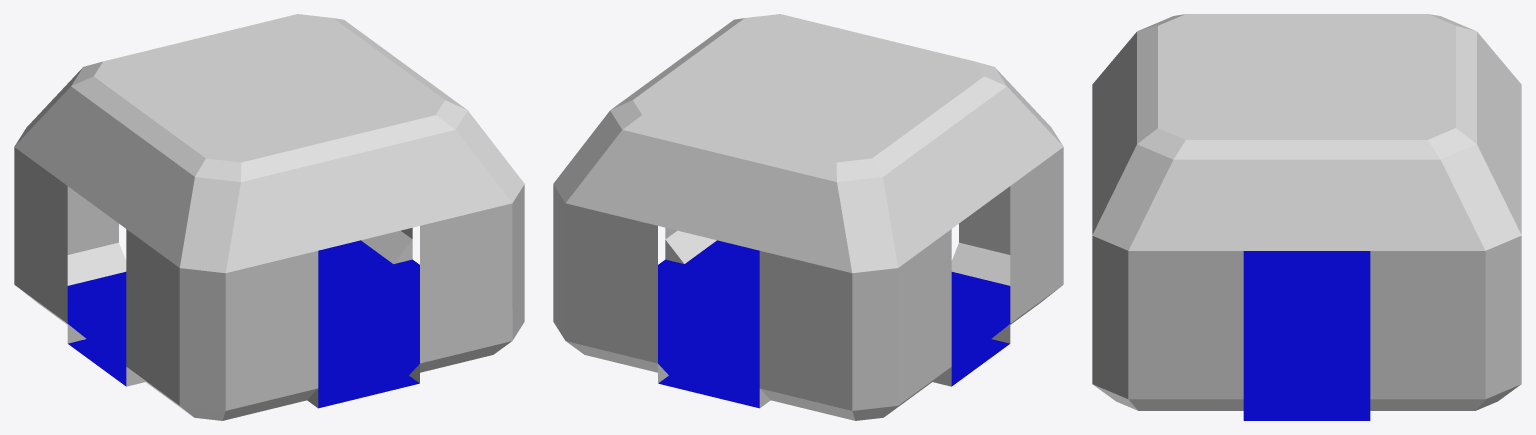
The model's file is room_lowPoly.fbx.
3 views of the same model, side by side, from view 1: azimuth 30°, elevation 25°; view 2: azimuth 150°, elevation 25°; view 3: azimuth 270°, elevation 25° (orthographic). The views are drawn at different scales.
Visible parts, largest first — view 1: Plane; view 2: Plane; view 3: Plane.
Part boxes in pixels (left/top/right/bottom): Plane: left=14, top=14, right=524, bottom=420; Plane: left=553, top=14, right=1063, bottom=420; Plane: left=1092, top=14, right=1521, bottom=420.
Size of the model in its own units: 700 by 455 by 700.
